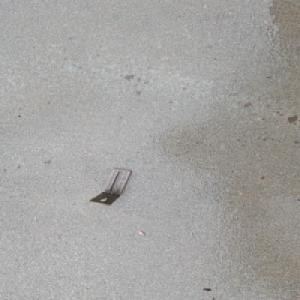MetalPart: (88, 167, 132, 206)
